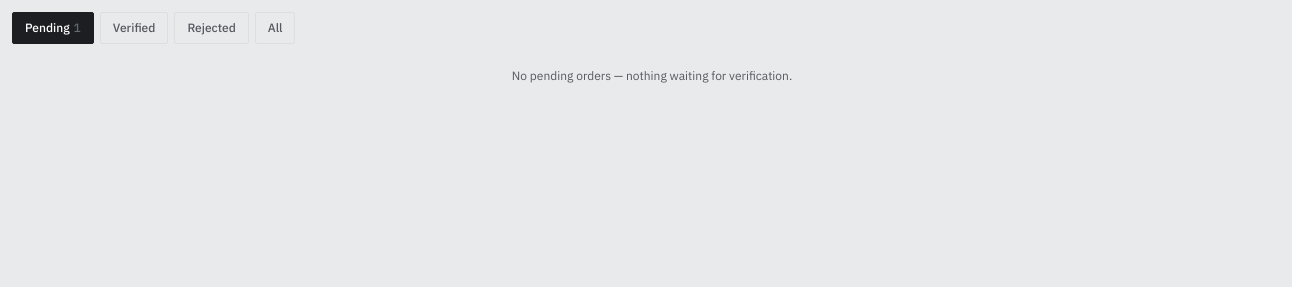
Test case: will not offer to verify an Order whose payment window lapsed
Expected: the text "No pending orders — nothing waiting for verification." is shown, [512,68,792,83]
Note: It is still in All, because the queue is also the financial record.
Step 1. Click the button with test id "filter-all" → (275, 28), box [255,12,296,44]
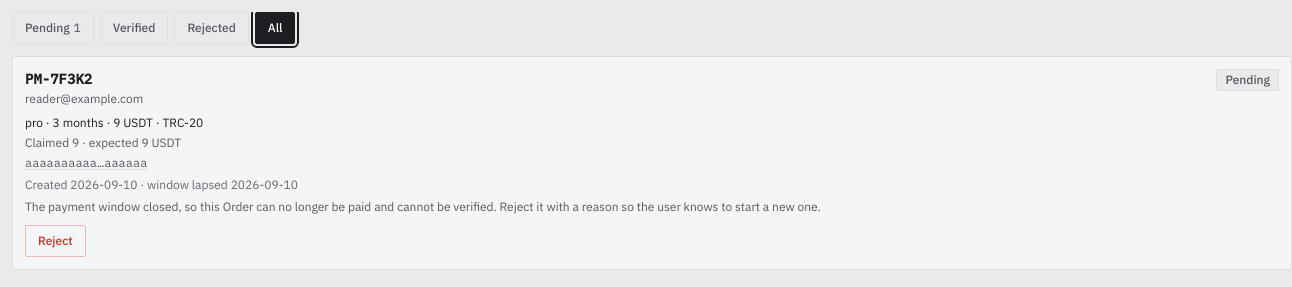
Result: the text with test id "order-window-lapsed" shows "can no longer be paid" at [25,199,821,214]
Result: the button with test id "reject-button" is shown at [25,225,86,257]
